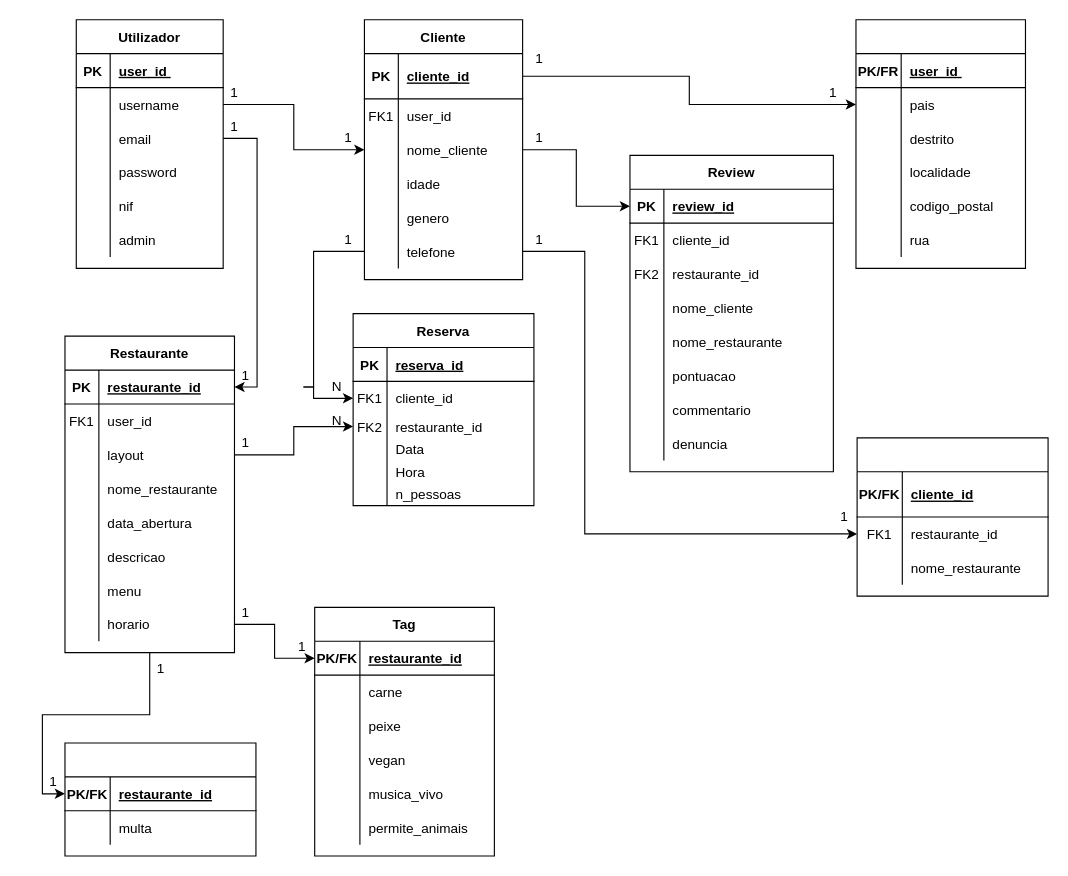
Some shapes in this 1068 by 876 pixel diagram are drawn without their labels. Here are the shapes that lost their labels. From the top down, the box of each, then its label:
(855, 19, 1025, 268): Morada
(856, 437, 1048, 596): Faforitos
(64, 742, 256, 856): Configuracao
